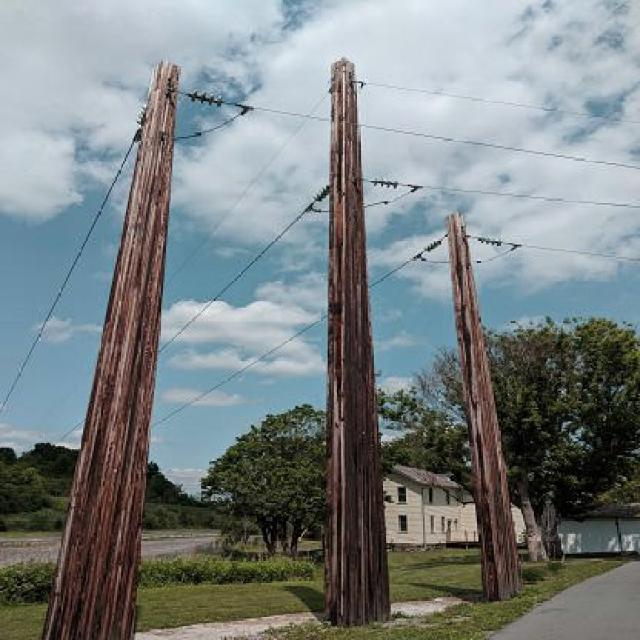pole: (40, 62, 183, 640), (323, 58, 392, 629), (446, 214, 522, 605)
wire: (0, 183, 325, 490), (146, 230, 446, 434), (1, 128, 143, 416), (155, 88, 329, 303), (182, 89, 639, 169), (361, 79, 640, 126), (362, 174, 639, 209), (474, 234, 640, 262)
